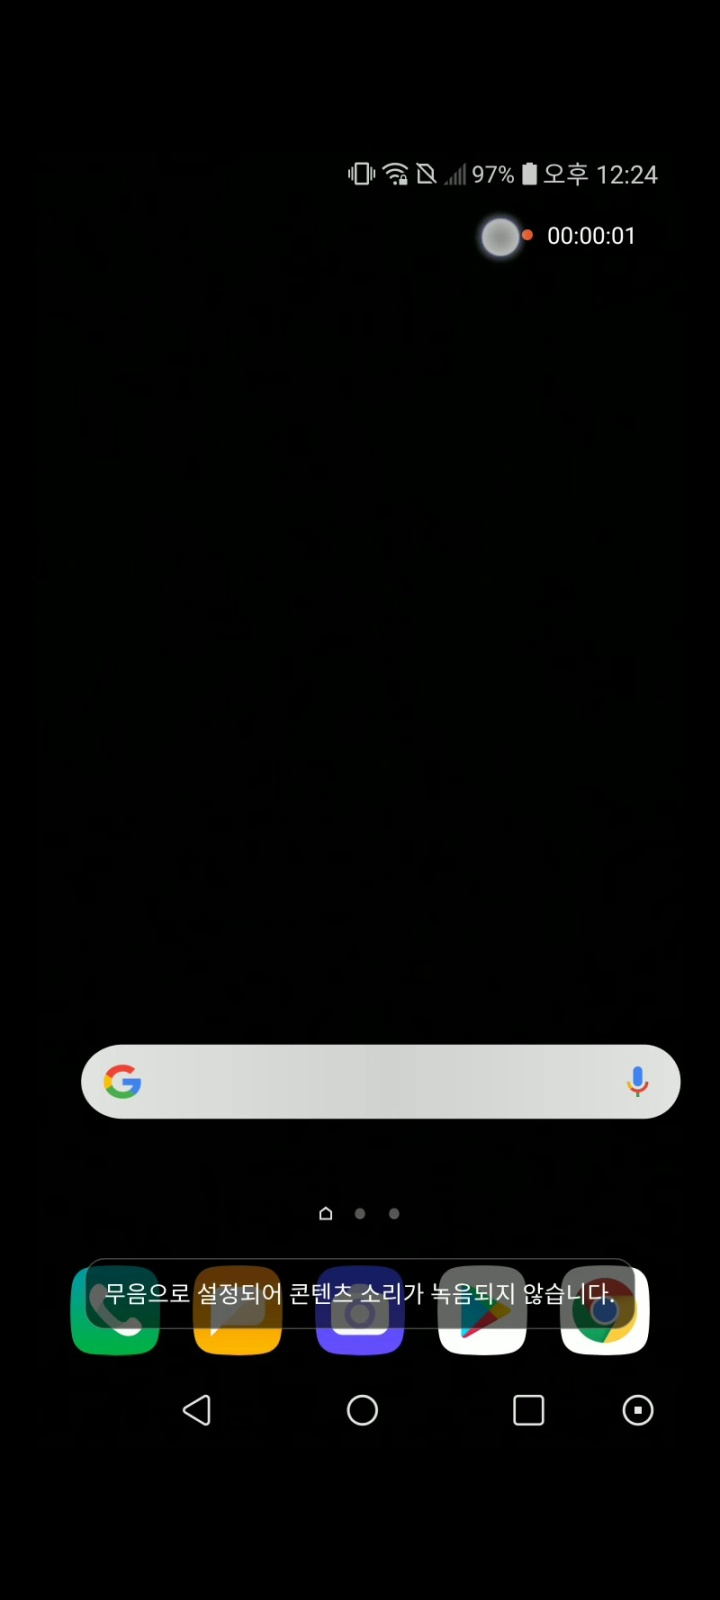Cursor: (478, 215, 523, 261)
